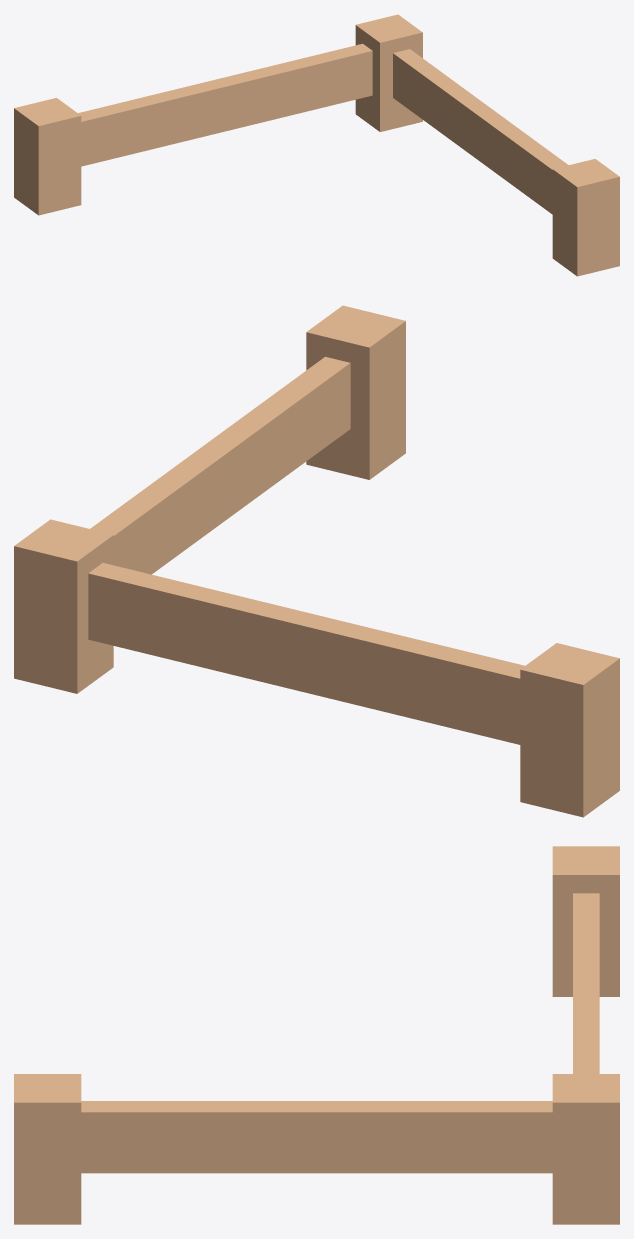
File: fenceLowCorner.glb
3 renders of one model, top to bottom at view 1: azimuth 30°, elevation 25°; view 2: azimuth 150°, elevation 25°; view 3: azimuth 270°, elevation 25°, orthographic. The views are drawn at different scales.
Parts seen in each view (by area): view 1: fenceLowCorner(Clone); view 2: fenceLowCorner(Clone); view 3: fenceLowCorner(Clone).
Part boxes in pixels (x1,y1,x2,y2): fenceLowCorner(Clone): (14, 14, 619, 276); fenceLowCorner(Clone): (14, 305, 619, 817); fenceLowCorner(Clone): (14, 846, 619, 1224).
Bounding box in the file's own units: 0.9 × 0.2 × 0.9.
